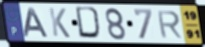7: (132, 7, 154, 41)
8: (104, 7, 127, 41)
A: (23, 7, 50, 38)
D: (74, 5, 104, 41)
K: (47, 6, 72, 39)
R: (155, 10, 184, 40)
